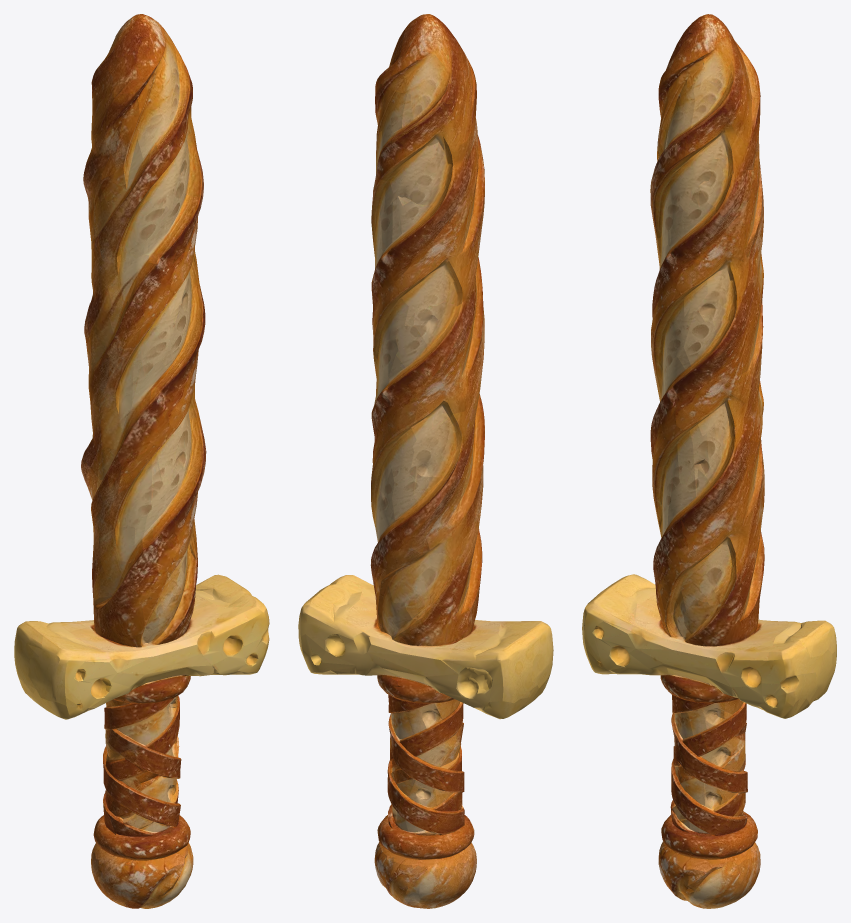
Rendered from baguette_sword.glb.
3 renders of one model, left to right at view 1: azimuth 30°, elevation 25°; view 2: azimuth 150°, elevation 25°; view 3: azimuth 330°, elevation 25°, orthographic.
Parts seen in each view (by area): view 1: Mesh_0; view 2: Mesh_0; view 3: Mesh_0.
Part boxes in pixels (x1,y1,x2,y2): Mesh_0: (14,14,269,908); Mesh_0: (298,14,553,908); Mesh_0: (582,14,836,908).
Size of the model in its own units: 0.2583 by 1 by 0.126.
Materials: 1 (1 with a texture image).
